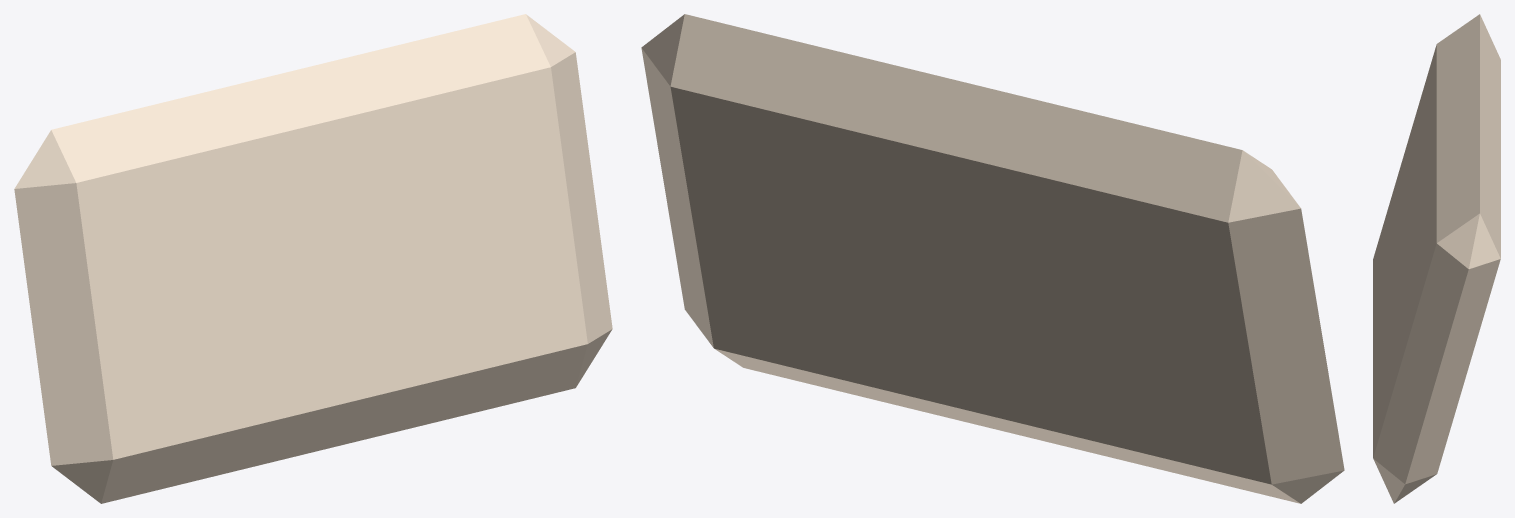
Rendered from kitPillowLong.glb.
3 renders of one model, left to right at view 1: azimuth 30°, elevation 25°; view 2: azimuth 150°, elevation 25°; view 3: azimuth 270°, elevation 25°, orthographic. The views are drawn at different scales.
Visible parts, largest first — view 1: kitPillowLong_fabric; view 2: kitPillowLong_fabric; view 3: kitPillowLong_fabric.
Part boxes in pixels (x1,y1,x2,y2): kitPillowLong_fabric: [14, 14, 612, 503]; kitPillowLong_fabric: [641, 14, 1344, 503]; kitPillowLong_fabric: [1373, 14, 1500, 503].
Bounding box in the file's own units: 0.5 × 0.2873 × 0.1144.
